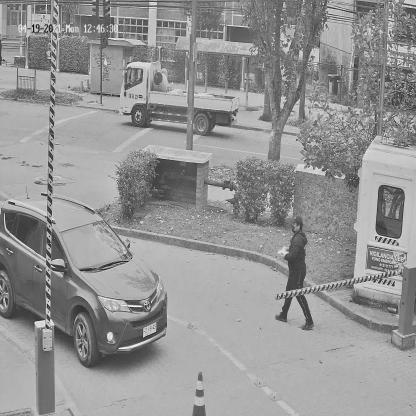Patente: (142, 319, 158, 340)
